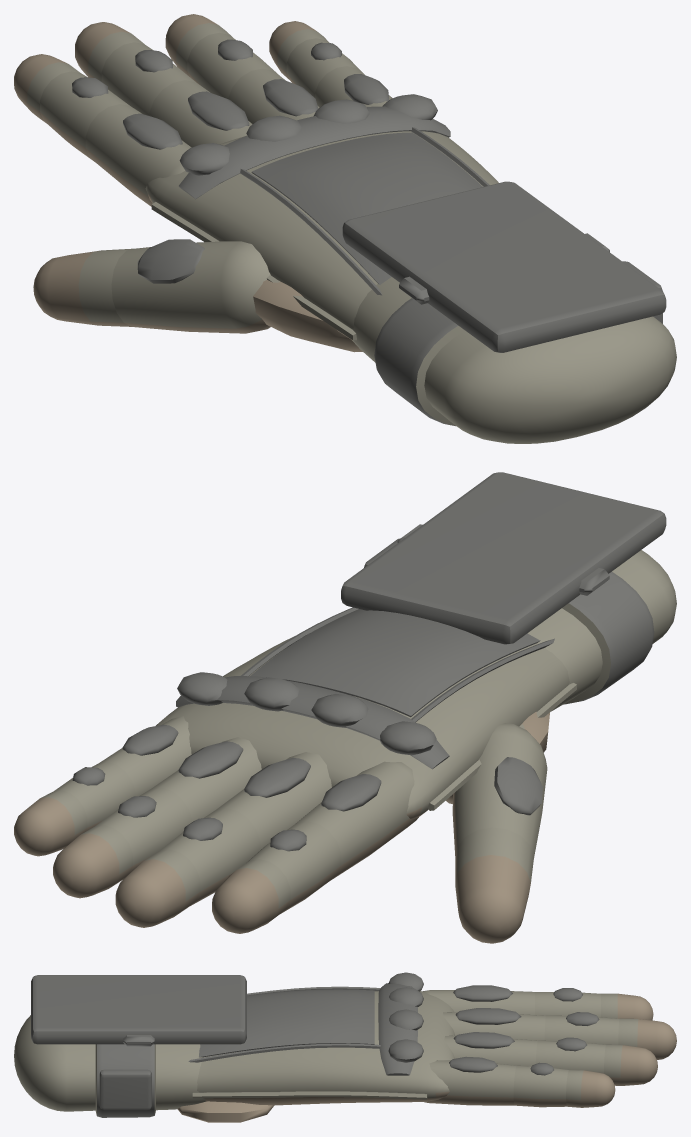
Rendered from glove_right.glb.
3 renders of one model, top to bottom at view 1: azimuth 30°, elevation 25°; view 2: azimuth 150°, elevation 25°; view 3: azimuth 270°, elevation 25°, orthographic. The views are drawn at different scales.
Parts seen in each view (by area): view 1: palm, wrist_housing, finger_4_0, finger_0_0, finger_4_1, finger_1_0, finger_0_1, finger_1_1, finger_2_0, finger_2_1, finger_3_1, finger_3_0 (+4 smaller); view 2: palm, wrist_housing, finger_4_0, finger_4_1, finger_0_0, finger_1_0, finger_1_2, finger_2_0, finger_1_1, finger_0_2, finger_0_1, finger_2_2 (+4 smaller); view 3: palm, wrist_housing, finger_3_0, finger_1_0, finger_2_0, finger_3_1, finger_0_0, finger_1_1, finger_2_1, finger_2_2, finger_1_2, finger_3_2 (+2 smaller).
Boxes of the visible parts, box(x1,y1,x2,y2) form: palm: box(145, 94, 676, 443); wrist_housing: box(342, 181, 666, 352); finger_4_0: box(111, 239, 270, 333); finger_0_0: box(85, 104, 191, 206); finger_4_1: box(33, 248, 133, 326); finger_1_0: box(149, 80, 252, 147); finger_0_1: box(40, 71, 129, 161); finger_1_1: box(101, 42, 195, 115); finger_2_0: box(228, 68, 319, 123); finger_2_1: box(187, 32, 277, 98); finger_3_1: box(286, 38, 363, 97); finger_3_0: box(315, 66, 392, 107); palm: box(156, 538, 676, 818); wrist_housing: box(341, 472, 666, 644); finger_4_0: box(452, 723, 547, 857); finger_4_1: box(455, 827, 533, 943); finger_0_0: box(297, 761, 418, 880); finger_1_0: box(216, 752, 331, 849); finger_1_2: box(115, 849, 200, 927); finger_2_0: box(151, 737, 261, 821); finger_1_1: box(159, 808, 260, 905); finger_0_2: box(212, 859, 290, 933); finger_0_1: box(248, 821, 341, 913); finger_2_2: box(53, 825, 132, 898); palm: box(14, 972, 455, 1122); wrist_housing: box(31, 975, 246, 1046); finger_3_0: box(424, 1056, 516, 1105); finger_1_0: box(443, 1008, 545, 1040); finger_2_0: box(444, 1032, 537, 1066); finger_3_1: box(513, 1062, 568, 1107); finger_0_0: box(422, 985, 534, 1014); finger_1_1: box(544, 1012, 619, 1044); finger_2_1: box(535, 1037, 605, 1073); finger_2_2: box(604, 1044, 657, 1085); finger_1_2: box(618, 1018, 676, 1059); finger_3_2: box(566, 1070, 615, 1107).
Bounding box in the file's own units: 0.1164 × 0.0504 × 0.2519.
